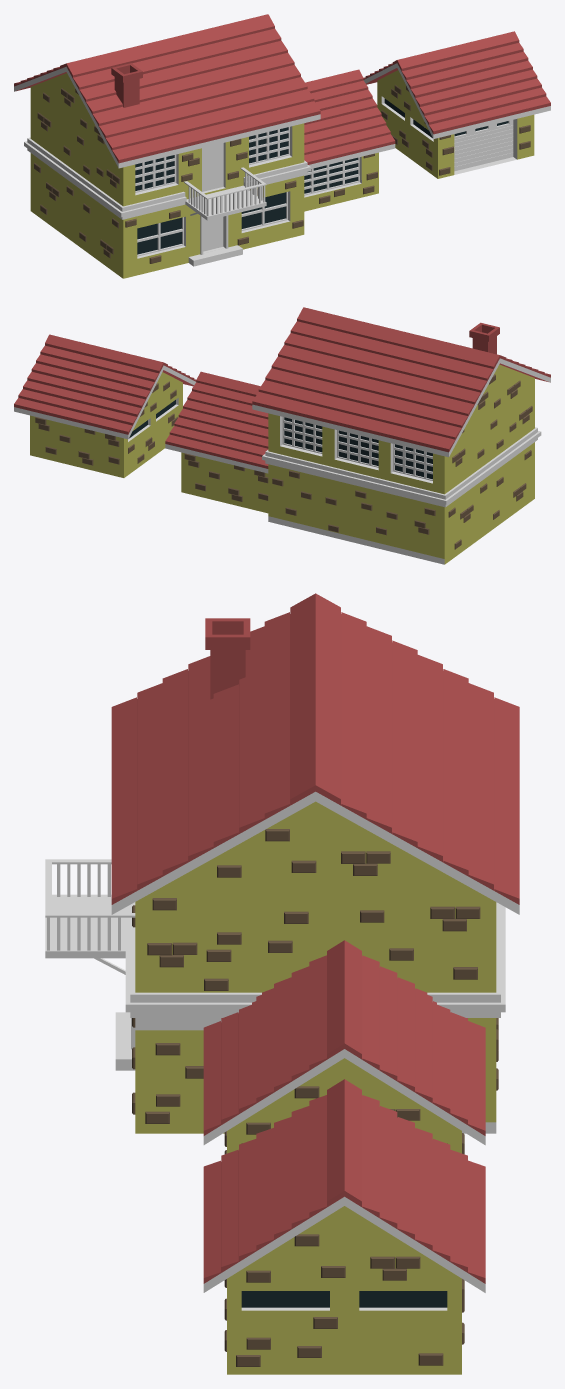
The model's file is 21 House_2.fbx.
3 views of the same model, one above another, from view 1: azimuth 30°, elevation 25°; view 2: azimuth 150°, elevation 25°; view 3: azimuth 270°, elevation 25° (orthographic). The views are drawn at different scales.
Parts seen in each view (by area): view 1: House_2; view 2: House_2; view 3: House_2.
Part boxes in pixels (x1,y1,x2,y2): House_2: [14, 14, 550, 278]; House_2: [14, 307, 550, 564]; House_2: [45, 593, 519, 1374].
Bounding box in the file's own units: 436 × 169 × 202.
